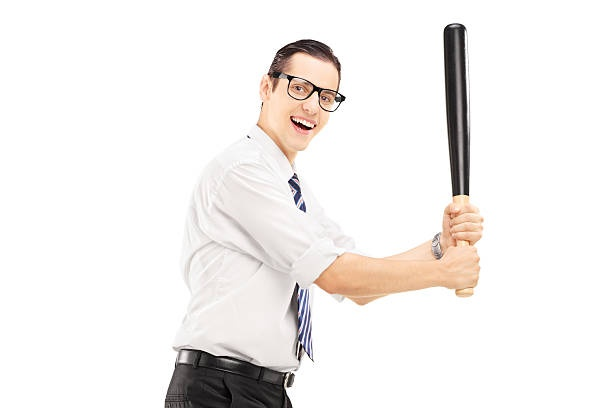bita: (441, 19, 476, 301)
